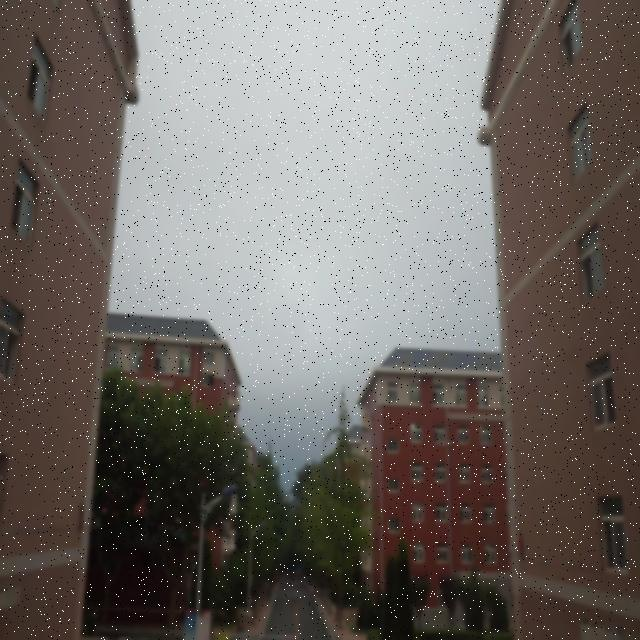UAV: (441, 441, 453, 450)
